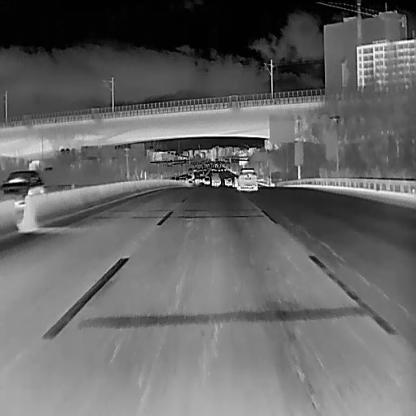car: (0, 169, 43, 197), (236, 168, 257, 191), (212, 172, 221, 186), (224, 177, 232, 185), (204, 176, 210, 184)
